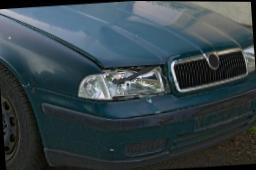Light: (77, 67, 168, 100)
